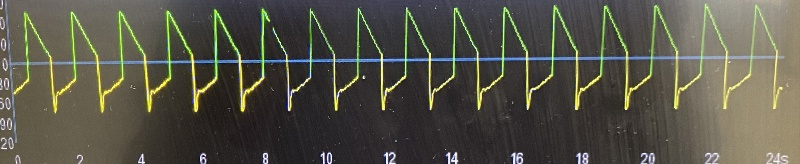peepi: (16, 0, 794, 116)
